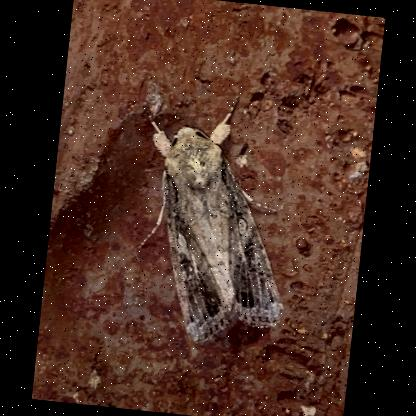Fall Armyworm Moth: (117, 81, 308, 358)
